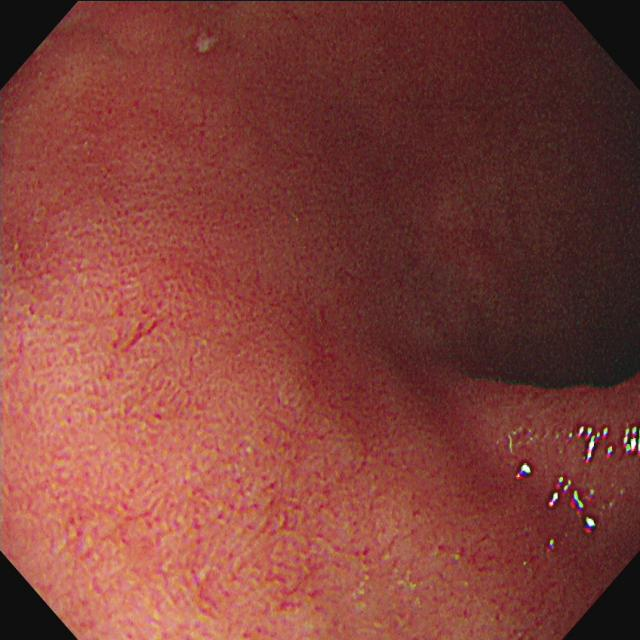U: (578, 425, 614, 464), (572, 488, 597, 537), (548, 476, 572, 510), (623, 425, 640, 457), (515, 462, 532, 480)
